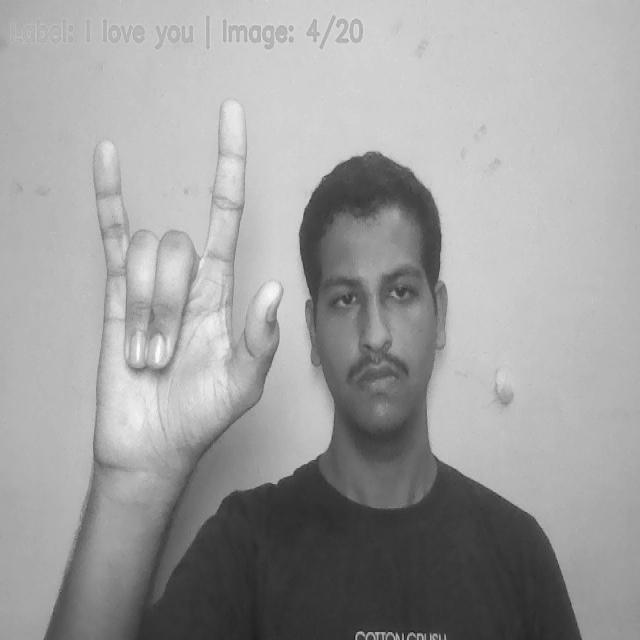I love you: (91, 120, 282, 464)
